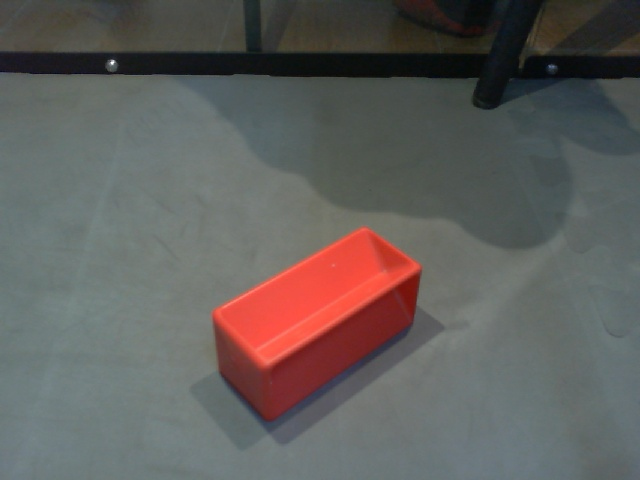RedSample: (211, 225, 425, 424)
